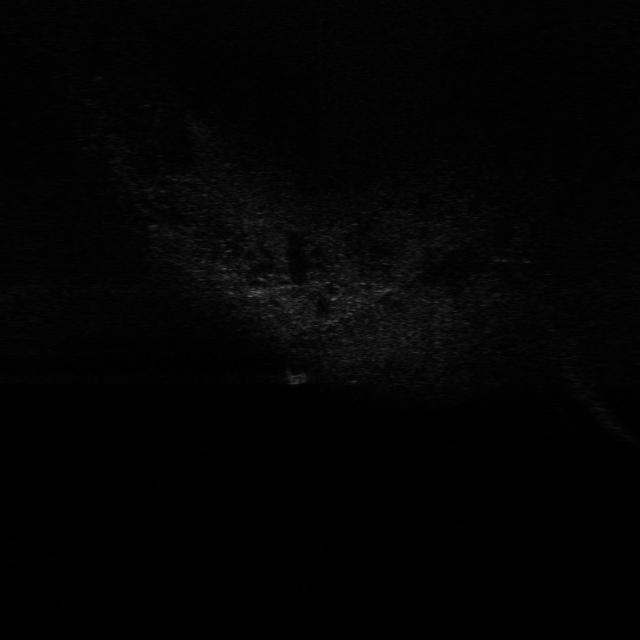cube: (278, 364, 312, 389)
